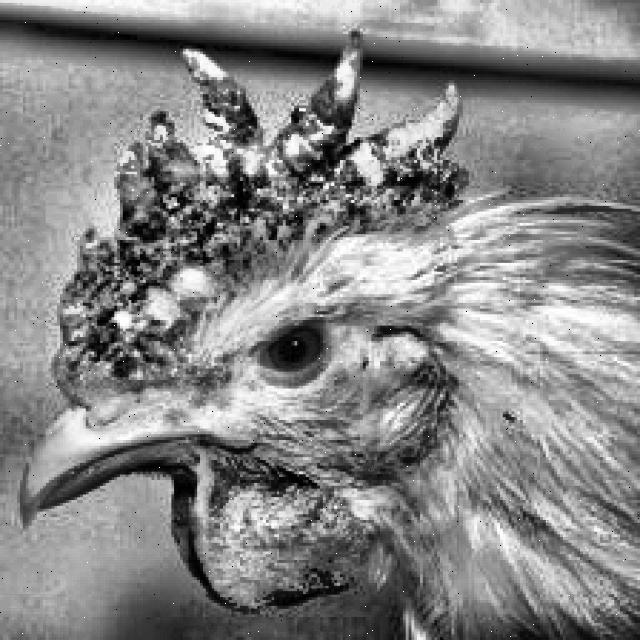Fowlpox: (48, 29, 492, 428)
